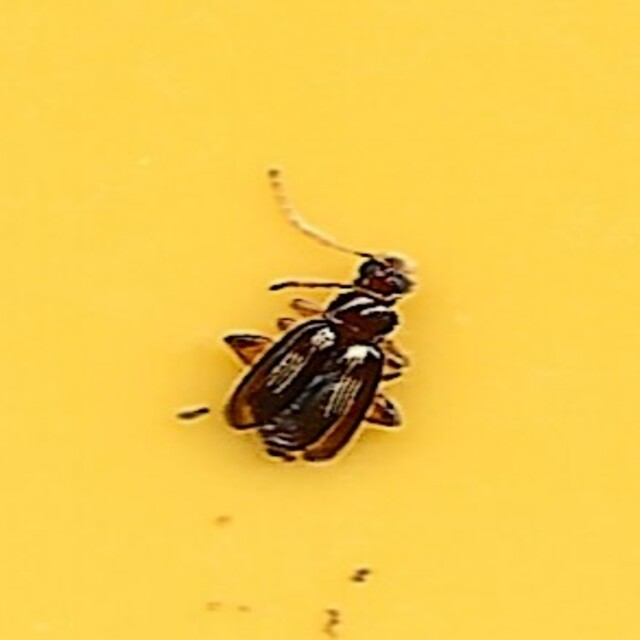Coleoptera: (218, 175, 422, 465)
